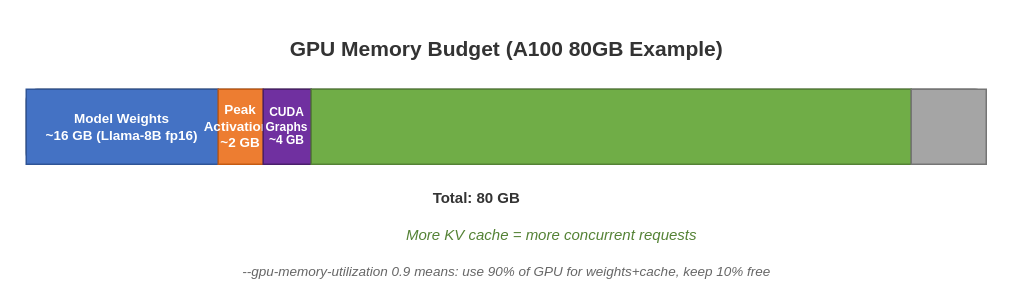
Image size: 1013x306. Some labels were removed from this diagram. Here are the shapes that lost their labels. From the top down, the box of each, then its label:
(310, 88, 911, 164): KV Cache ~50 GB (controlled by --gpu-memory-utilization)
(910, 88, 986, 164): Free ~8 GB
